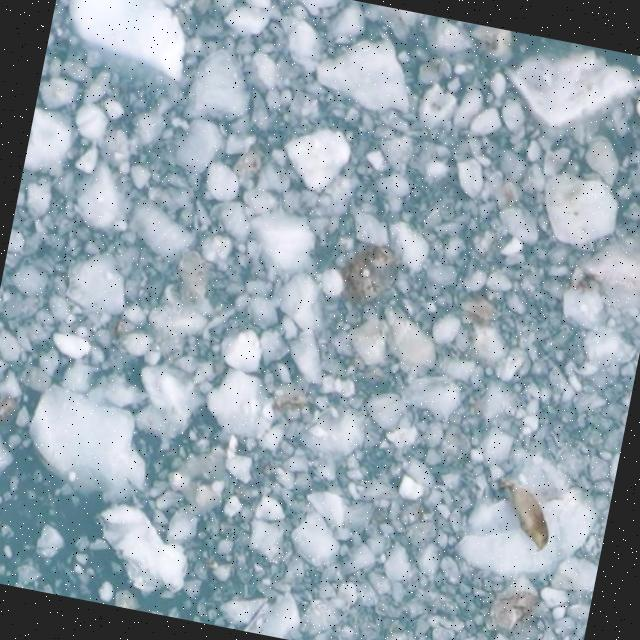seal: (502, 478, 550, 550)
